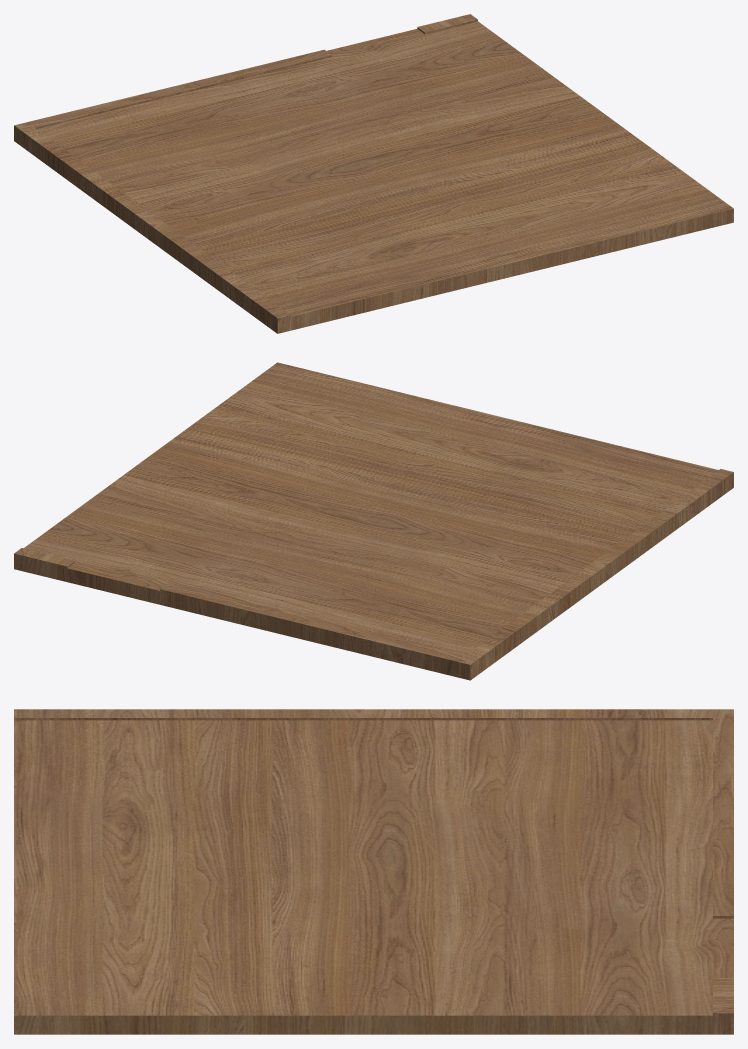
The model's file is salapisob.gltf.
3 views of the same model, one above another, from view 1: azimuth 30°, elevation 25°; view 2: azimuth 150°, elevation 25°; view 3: azimuth 270°, elevation 25° (orthographic). The views are drawn at different scales.
Parts seen in each view (by area): view 1: piso; view 2: piso; view 3: piso.
Boxes of the visible parts, <box> form: piso: <box>14,14,733,333</box>; piso: <box>14,362,733,680</box>; piso: <box>14,709,733,1034</box>.
Size of the model in its own units: 10.3 by 0.3374 by 10.3.
1 material, 1 textured.
